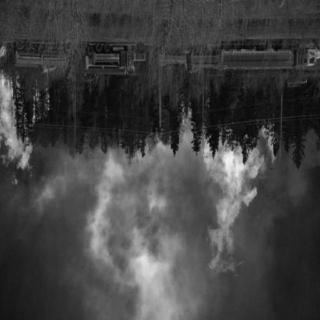Fire: (197, 125, 271, 279), (1, 68, 43, 182)
Smoke: (8, 177, 190, 307), (188, 272, 225, 310)
